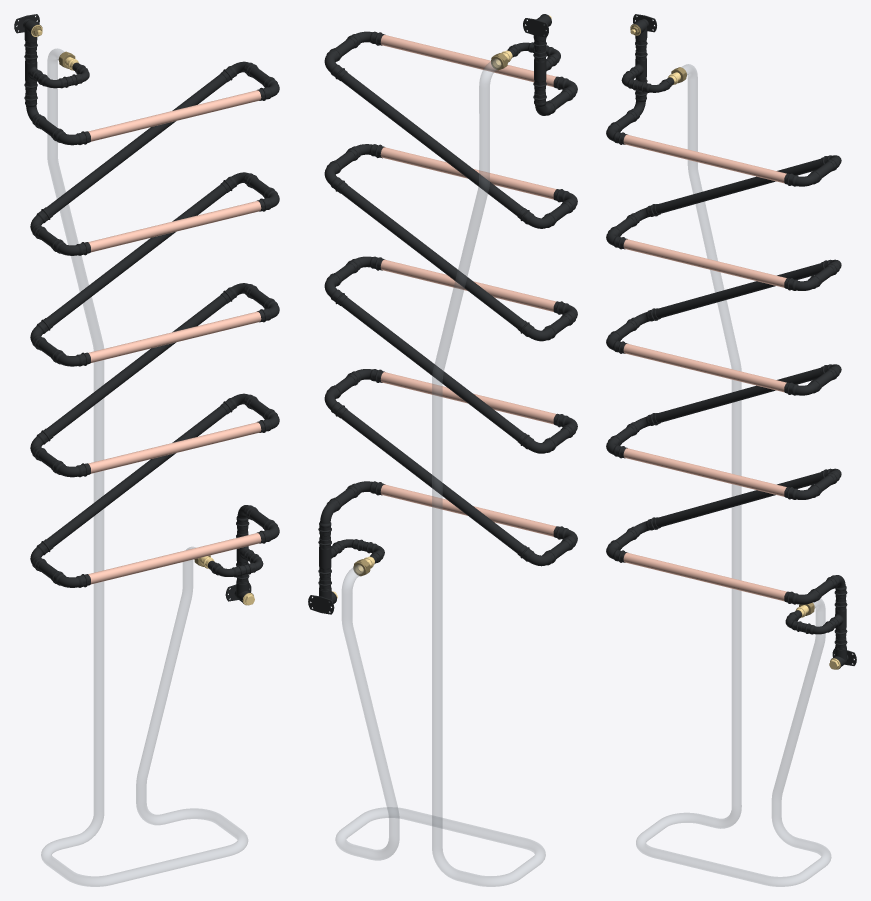
File: el_camino.gltf
The picture shows the model from 3 angles, left to right: view 1: azimuth 30°, elevation 25°; view 2: azimuth 150°, elevation 25°; view 3: azimuth 330°, elevation 25°; orthographic projection. The views are drawn at different scales.
Visible parts, largest first — view 1: Rib.5, Pad.010, Pad.014, Pad.018, Pad.022, Pad.021, Pad.009, Pad.013, Pad.017, Pad.025; view 2: Rib.5, Pad.010, Pad.014, Pad.018, Pad.022, Pad.009, Pad.021, Pad.017, Pad.025, Pad.013, Pocket.001, Pocket.7 (+2 smaller); view 3: Rib.5, Pad.017, Pad.025, Pad.013, Pad.009, Pad.021, Pad.014, Pad.022, Pad.018, Pad.010.
Boxes of the visible parts, left/top/right/bottom form: Rib.5: left=41, top=48, right=247, bottom=886; Pad.010: left=47, top=73, right=227, bottom=215; Pad.014: left=47, top=184, right=227, bottom=325; Pad.018: left=47, top=295, right=227, bottom=436; Pad.022: left=47, top=405, right=227, bottom=547; Pad.021: left=88, top=422, right=261, bottom=473; Pad.009: left=88, top=90, right=261, bottom=141; Pad.013: left=88, top=201, right=261, bottom=252; Pad.017: left=88, top=311, right=261, bottom=362; Pad.025: left=88, top=533, right=261, bottom=584; Rib.5: left=335, top=59, right=545, bottom=886; Pad.010: left=340, top=72, right=523, bottom=216; Pad.014: left=340, top=185, right=523, bottom=328; Pad.018: left=340, top=297, right=523, bottom=440; Pad.022: left=340, top=409, right=523, bottom=553; Pad.009: left=380, top=34, right=555, bottom=87; Pad.021: left=380, top=372, right=555, bottom=424; Pad.017: left=380, top=259, right=556, bottom=311; Pad.025: left=380, top=484, right=555, bottom=536; Pad.013: left=380, top=147, right=556, bottom=199; Pocket.001: left=318, top=537, right=338, bottom=578; Pocket.7: left=533, top=50, right=553, bottom=90; Rib.5: left=636, top=64, right=831, bottom=886; Pad.017: left=623, top=343, right=786, bottom=392; Pad.025: left=623, top=552, right=786, bottom=601; Pad.013: left=623, top=239, right=786, bottom=287; Pad.009: left=623, top=134, right=786, bottom=183; Pad.021: left=623, top=448, right=786, bottom=496; Pad.014: left=655, top=263, right=821, bottom=318; Pad.022: left=655, top=472, right=821, bottom=527; Pad.018: left=655, top=367, right=820, bottom=422; Pad.010: left=655, top=158, right=820, bottom=213.
Bounding box in the file's own units: 0.5598 × 1.93 × 0.243.
